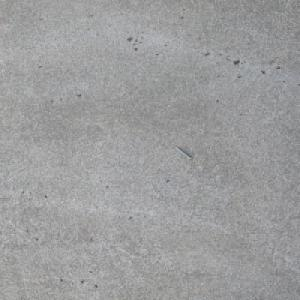Screw: (174, 146, 193, 159)
